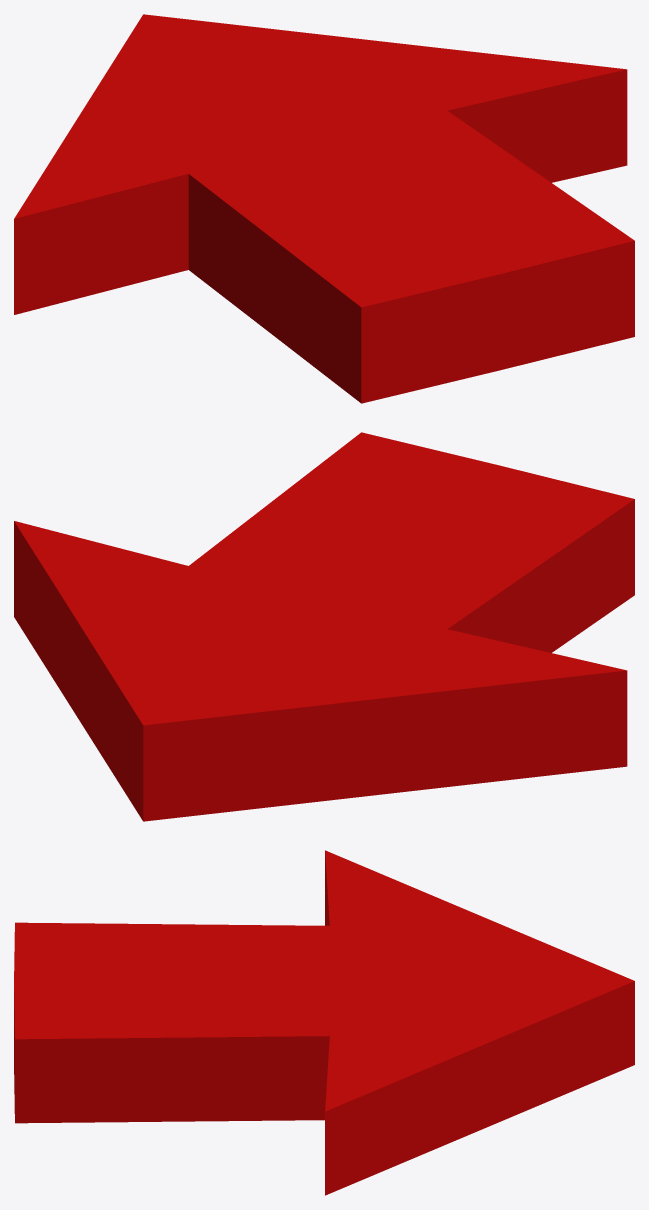
3 renders of one model, top to bottom at view 1: azimuth 30°, elevation 25°; view 2: azimuth 150°, elevation 25°; view 3: azimuth 270°, elevation 25°, orthographic. The views are drawn at different scales.
Parts seen in each view (by area): view 1: キャップ_2, 押し出し; view 2: キャップ_2, 押し出し; view 3: キャップ_2, 押し出し.
Part boxes in pixels (<box>): キャップ_2: <box>14,14,634,307</box>; 押し出し: <box>14,69,634,403</box>; キャップ_2: <box>14,432,634,725</box>; 押し出し: <box>14,499,634,821</box>; キャップ_2: <box>14,850,634,1111</box>; 押し出し: <box>14,852,634,1195</box>.
Bounding box in the file's own units: 200 × 30 × 201.
